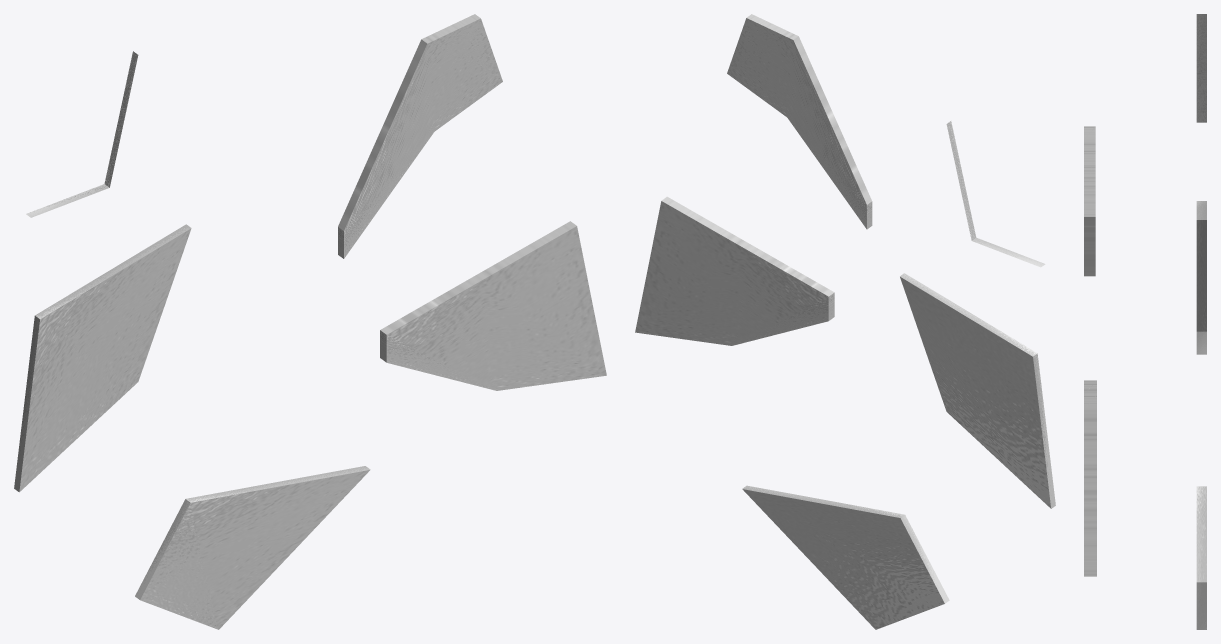
Rendered from BrokenGlassPieces.fbx.
3 renders of one model, left to right at view 1: azimuth 30°, elevation 25°; view 2: azimuth 150°, elevation 25°; view 3: azimuth 270°, elevation 25°, orthographic. The views are drawn at different scales.
Parts seen in each view (by area): view 1: BrokenGlass4, BrokenGlass3, BrokenGlass5, BrokenGlass2, BrokenGlass1; view 2: BrokenGlass4, BrokenGlass3, BrokenGlass5, BrokenGlass2, BrokenGlass1; view 3: BrokenGlass4, BrokenGlass2, BrokenGlass3, BrokenGlass5, BrokenGlass1.
Part boxes in pixels (x1,y1,x2,y2): BrokenGlass4: (380,221,606,390); BrokenGlass3: (14,224,191,492); BrokenGlass5: (135,466,370,629); BrokenGlass2: (338,14,502,258); BrokenGlass1: (26,51,138,217); BrokenGlass4: (635,196,834,345); BrokenGlass3: (900,273,1055,508); BrokenGlass5: (742,485,949,629); BrokenGlass2: (727,14,872,229); BrokenGlass1: (946,121,1045,267); BrokenGlass4: (1084,380,1096,576); BrokenGlass2: (1084,126,1095,276); BrokenGlass3: (1196,201,1206,354); BrokenGlass5: (1196,486,1206,629); BrokenGlass1: (1196,14,1206,122).
Size of the model in its own units: 208 by 227 by 43.06.
